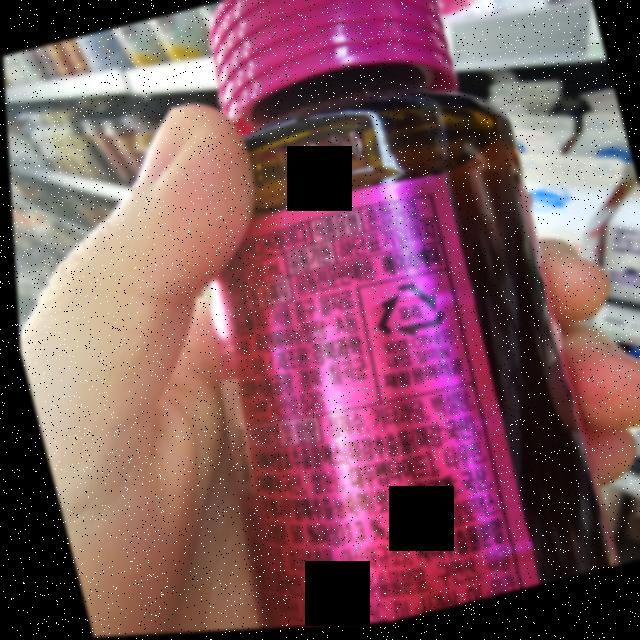Glass: (360, 277, 448, 351)
